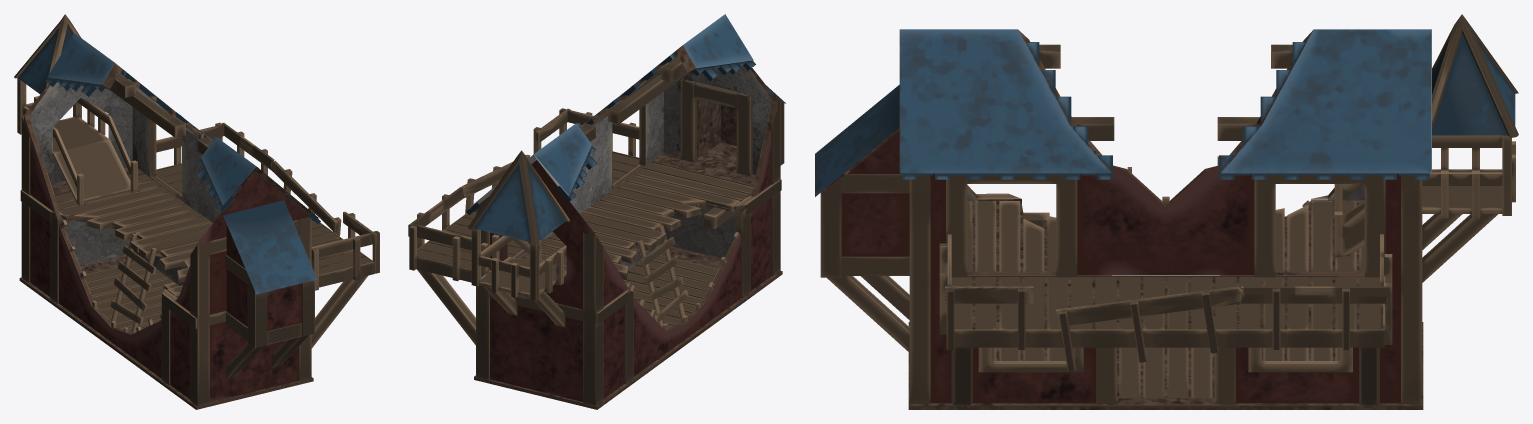
Rendered from CasaDestruida1.fbx.
3 views of the same model, side by side, from view 1: azimuth 30°, elevation 25°; view 2: azimuth 150°, elevation 25°; view 3: azimuth 270°, elevation 25° (orthographic). The views are drawn at different scales.
Visible parts, largest first — view 1: CasaDestruida1; view 2: CasaDestruida1; view 3: CasaDestruida1.
Part boxes in pixels (x1=…): CasaDestruida1: x1=14, y1=14, x2=379, y2=409; CasaDestruida1: x1=408, y1=14, x2=785, y2=409; CasaDestruida1: x1=815, y1=14, x2=1518, y2=409.
Bounding box in the file's own units: 1379 × 1634 × 2930.
